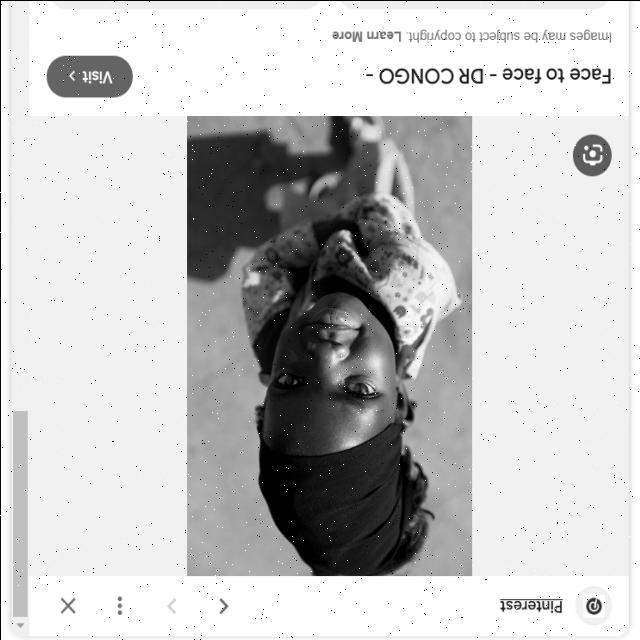face_no_mask: (255, 297, 411, 453)
